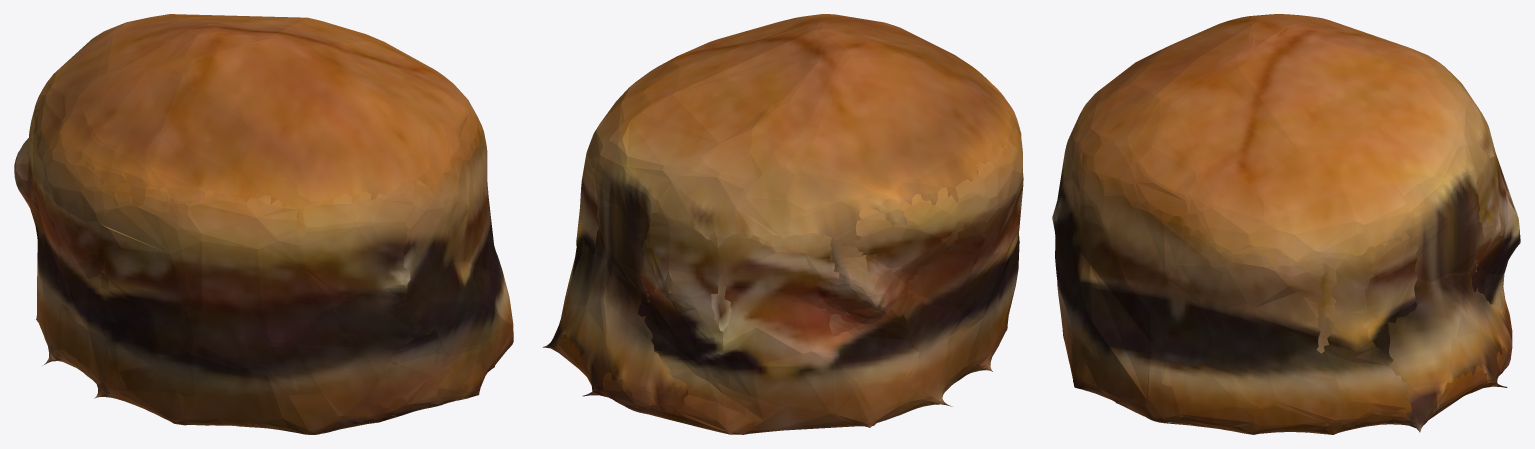
Rendered from cheeseburger.dae.
The picture shows the model from 3 angles, left to right: view 1: azimuth 30°, elevation 25°; view 2: azimuth 150°, elevation 25°; view 3: azimuth 270°, elevation 25°; orthographic projection. The views are drawn at different scales.
Parts seen in each view (by area): view 1: cheeseburger; view 2: cheeseburger; view 3: cheeseburger.
Part boxes in pixels (bbox=[...]): cheeseburger: bbox=[14, 14, 513, 434]; cheeseburger: bbox=[542, 14, 1023, 434]; cheeseburger: bbox=[1052, 14, 1520, 434].
Bounding box in the file's own units: 0.0379 × 0.0394 × 0.0278.
1 material, 1 textured.
